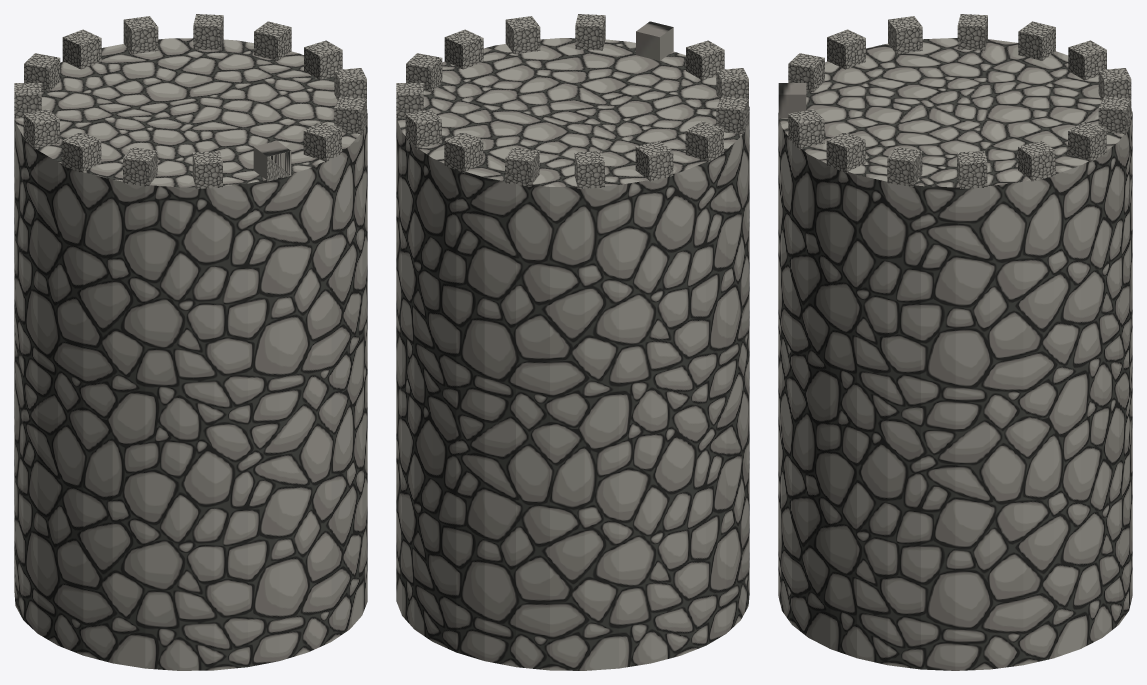
Rendered from Tower.fbx.
3 views of the same model, side by side, from view 1: azimuth 30°, elevation 25°; view 2: azimuth 150°, elevation 25°; view 3: azimuth 270°, elevation 25° (orthographic).
Parts seen in each view (by area): view 1: Cube; view 2: Cube; view 3: Cube.
Part boxes in pixels (<box>): Cube: <box>14,14,367,670</box>; Cube: <box>396,14,749,670</box>; Cube: <box>778,14,1132,670</box>.
Bounding box in the file's own units: 401 × 632 × 400.
